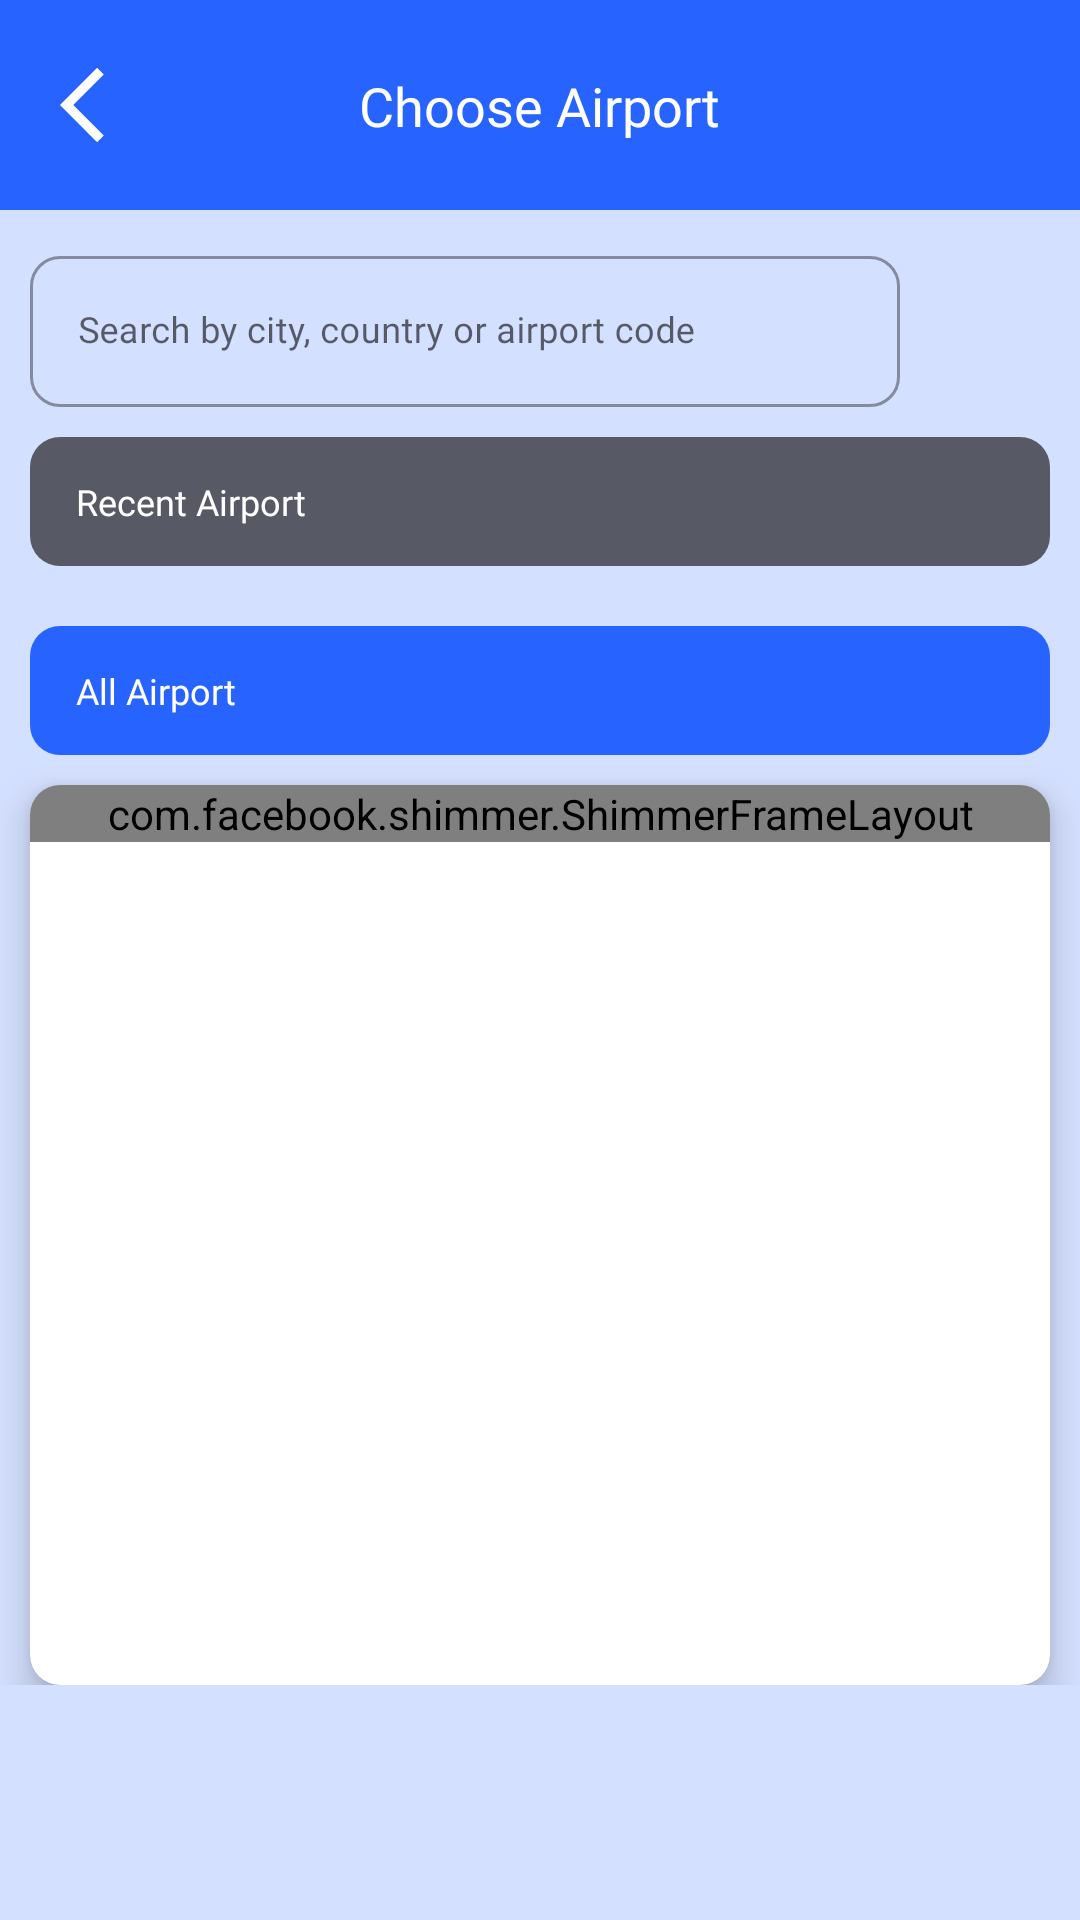

Where to tap for icons on this 1080px×1920px app screen, as (x,y):
arrow back: (82,105)
